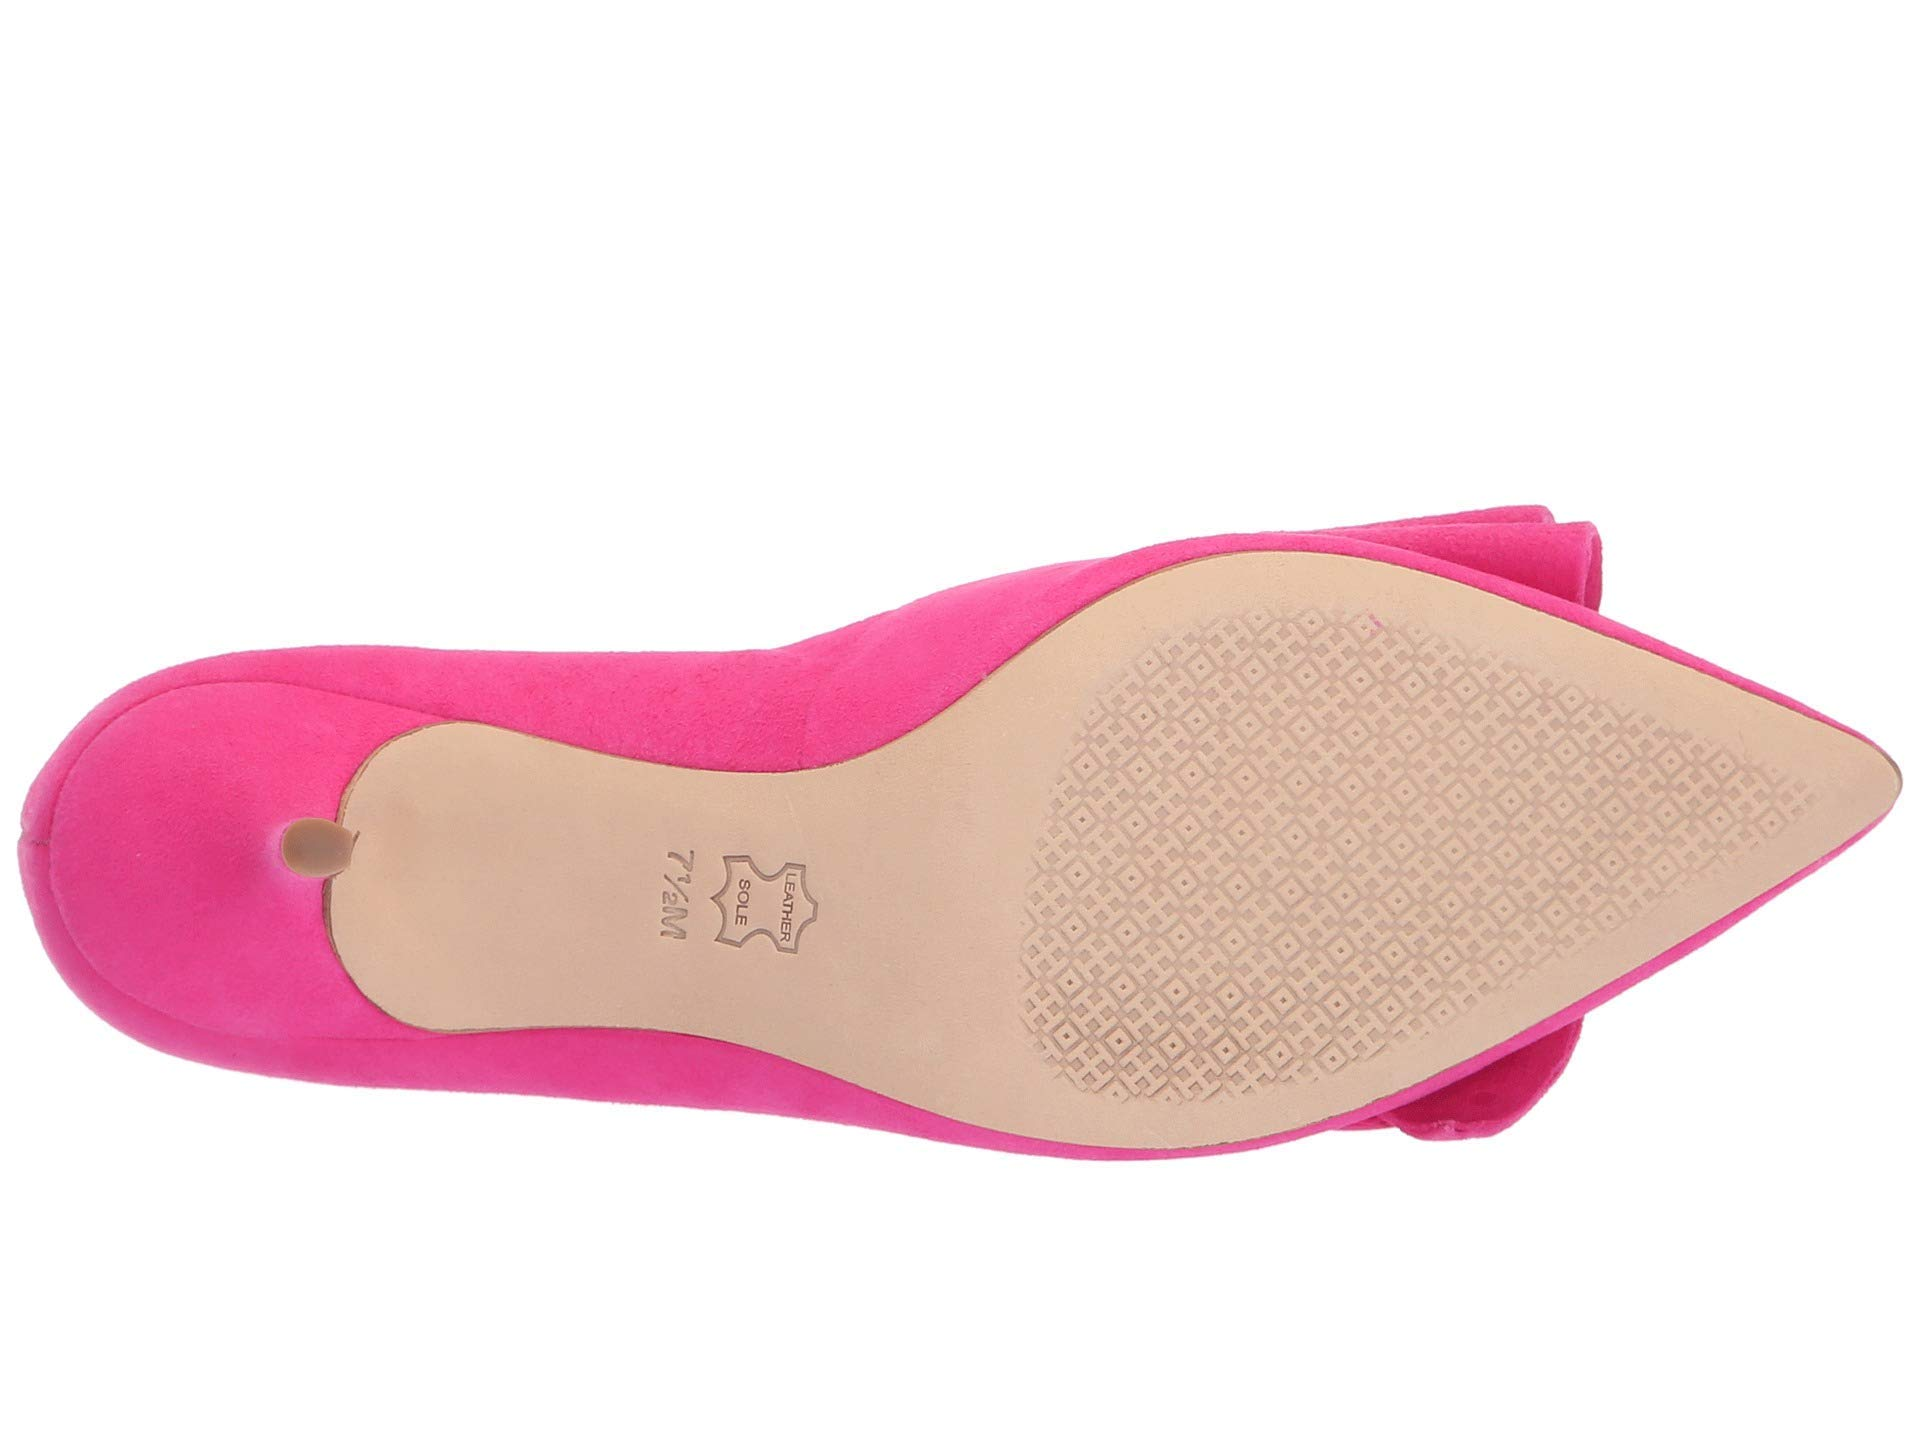quad: (1157, 681, 1426, 974)
star: (1157, 681, 1426, 974)
